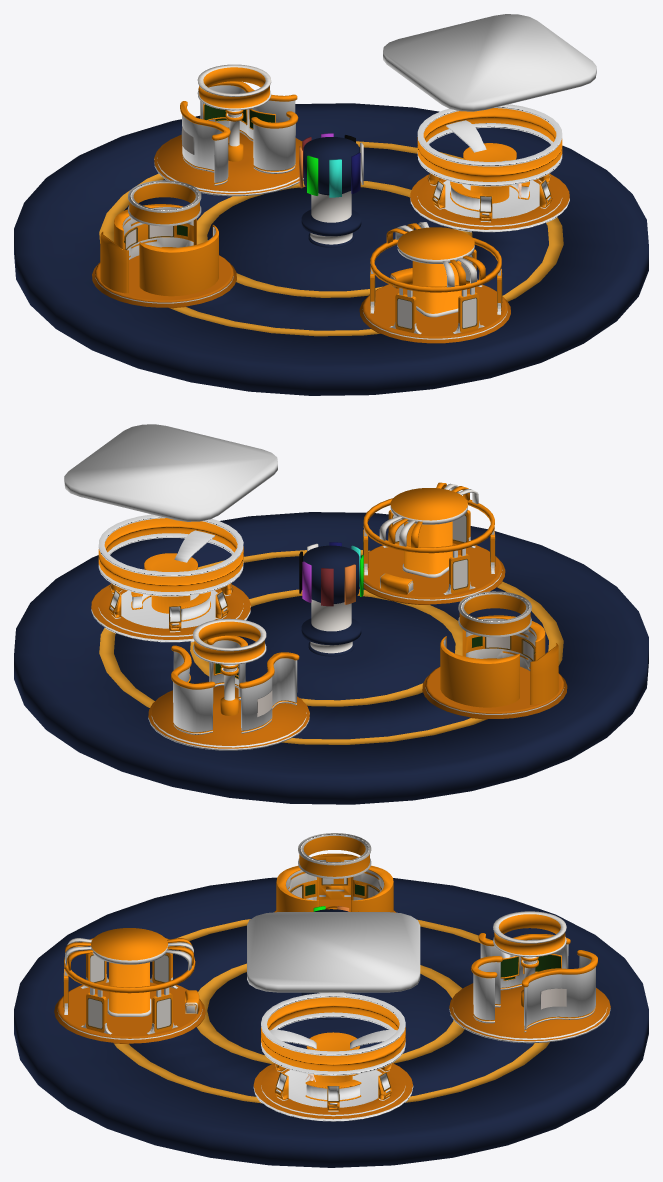
File: multimedia.glb
The picture shows the model from 3 angles, top to bottom: view 1: azimuth 30°, elevation 25°; view 2: azimuth 150°, elevation 25°; view 3: azimuth 270°, elevation 25°; orthographic projection.
Parts seen in each view (by area): view 1: Floor_Ruangan_Animasi, Cube.001, Cube.006, Booth_Storyboard, Booth_Maskot_SiMudi, BOOTH_FILM, Tiang tengah; view 2: Floor_Ruangan_Animasi, Cube.001, Booth_Storyboard, Cube.006, Booth_Maskot_SiMudi, BOOTH_FILM, Tiang tengah; view 3: Floor_Ruangan_Animasi, Cube.001, Cube.006, Booth_Storyboard, Booth_Maskot_SiMudi, BOOTH_FILM.
Part boxes in pixels (<box>): Floor_Ruangan_Animasi: <box>14,103,648,395</box>; Cube.001: <box>410,104,569,232</box>; Cube.006: <box>383,14,596,111</box>; Booth_Storyboard: <box>154,64,303,196</box>; Booth_Maskot_SiMudi: <box>359,222,510,343</box>; BOOTH_FILM: <box>92,180,236,308</box>; Tiang tengah: <box>299,133,363,247</box>; Floor_Ruangan_Animasi: <box>14,512,648,804</box>; Cube.001: <box>91,514,250,642</box>; Booth_Storyboard: <box>148,618,309,750</box>; Cube.006: <box>64,424,277,521</box>; Booth_Maskot_SiMudi: <box>363,482,505,604</box>; BOOTH_FILM: <box>422,591,567,719</box>; Tiang tengah: <box>299,542,363,656</box>; Floor_Ruangan_Animasi: <box>14,877,648,1167</box>; Cube.001: <box>253,992,413,1121</box>; Cube.006: <box>247,912,420,992</box>; Booth_Storyboard: <box>449,911,610,1043</box>; Booth_Maskot_SiMudi: <box>54,928,205,1044</box>; BOOTH_FILM: <box>274,833,396,912</box>.
Size of the model in its own units: 37.44 by 10.58 by 37.44.
Materials: 19 (3 with a texture image).
